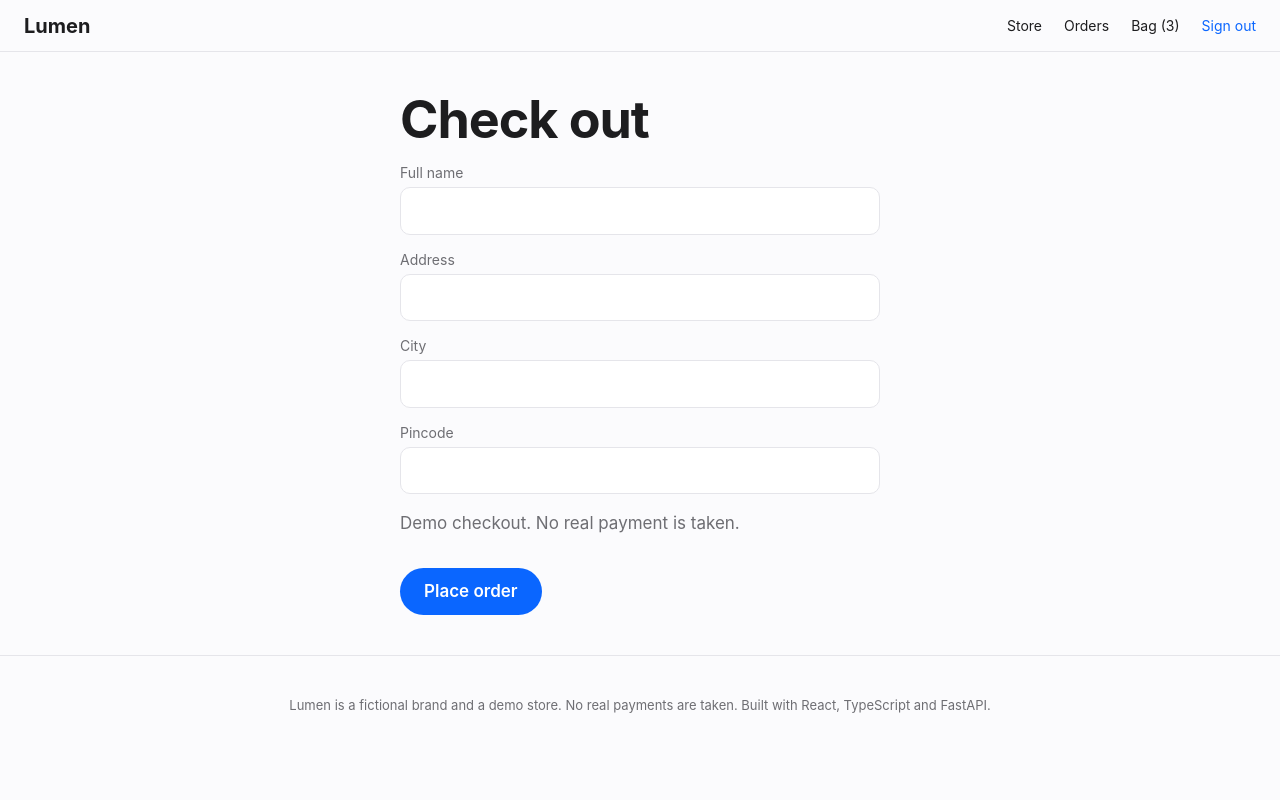
Test case: Lumen store › validates the address on the client and sends no order
What coordinates should you click on to do the following:
click the button "Place order"
I would click on:
 (471, 591)
Its box is x1=400 y1=568 x2=542 y2=615.
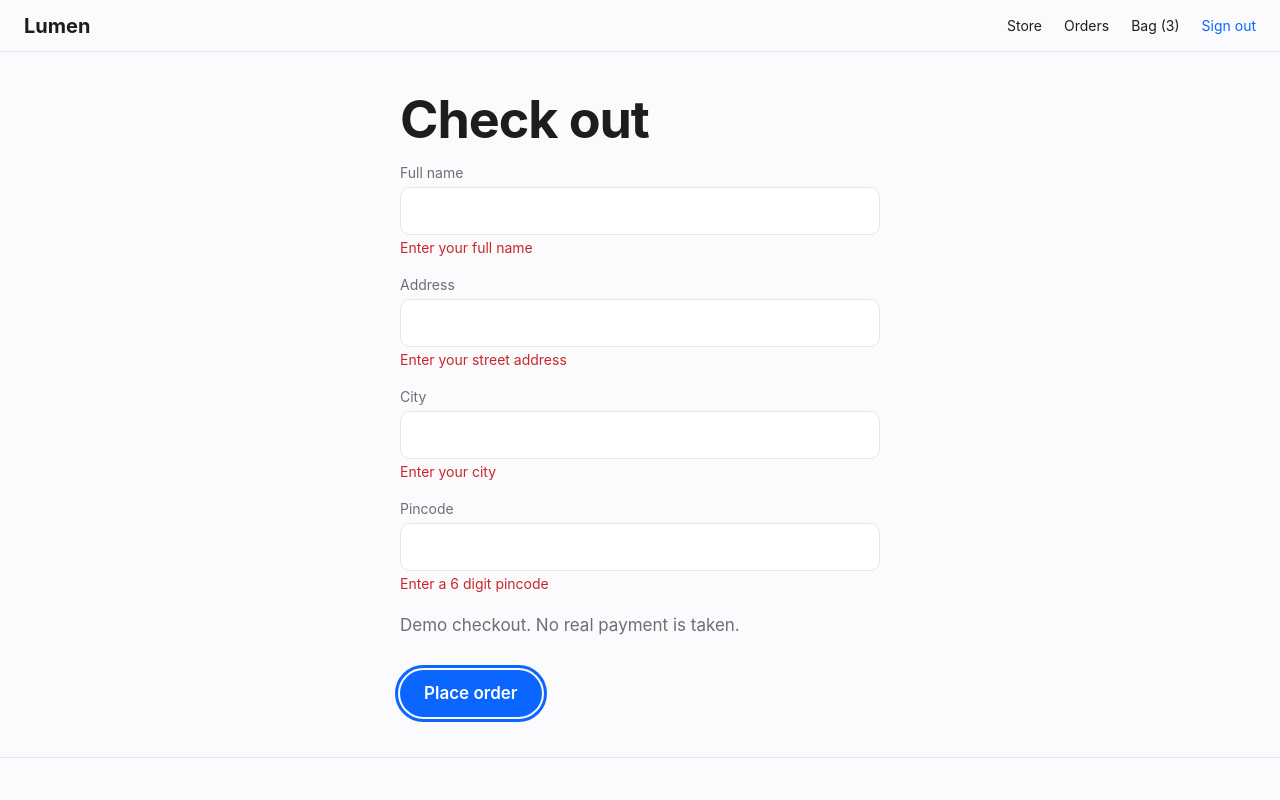
Check: the text "Enter a 6 digit pincode" is shown, box x1=400 y1=575 x2=549 y2=592
